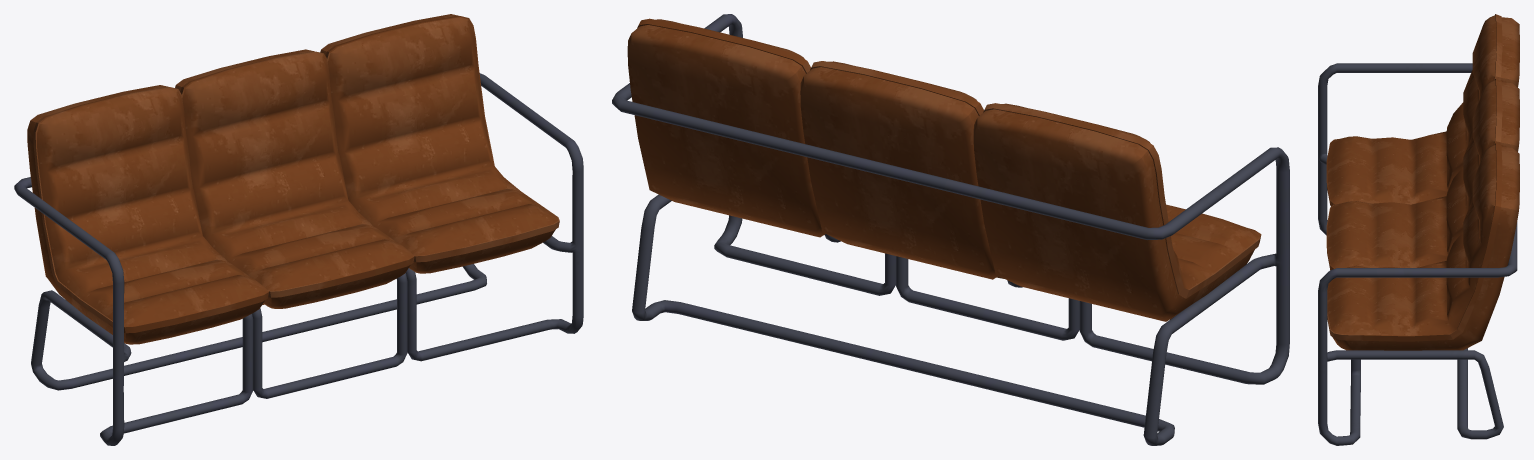
The model's file is long-chair.glb.
3 renders of one model, left to right at view 1: azimuth 30°, elevation 25°; view 2: azimuth 150°, elevation 25°; view 3: azimuth 270°, elevation 25°, orthographic. The views are drawn at different scales.
Visible parts, largest first — view 1: Long_Chair; view 2: Long_Chair; view 3: Long_Chair.
Part boxes in pixels (x1,y1,x2,y2): Long_Chair: (14,14,583,445); Long_Chair: (612,14,1289,445); Long_Chair: (1318,14,1519,445).
Size of the model in its own units: 2.22 by 1.19 by 0.9081.
Materials: 2 (2 with a texture image).
